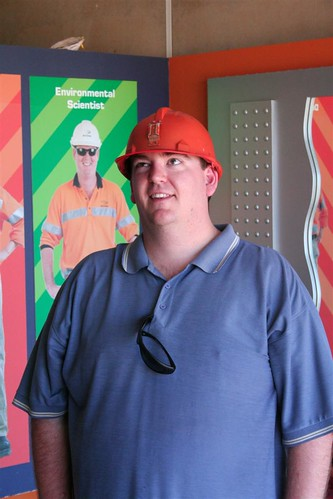person hardhat: (37, 104, 333, 499)
